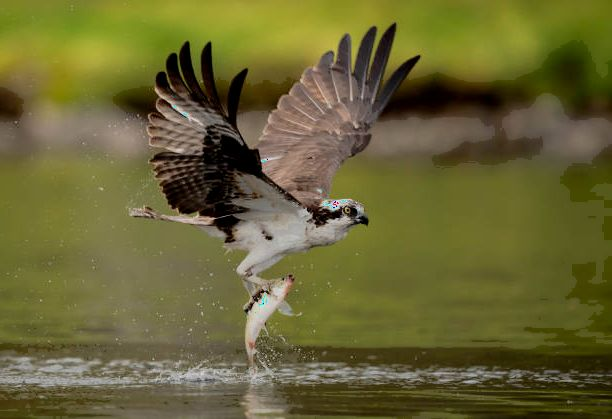Bird: (119, 15, 423, 304)
